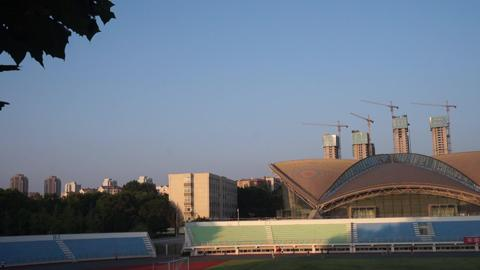UAV: (248, 213, 256, 217)
